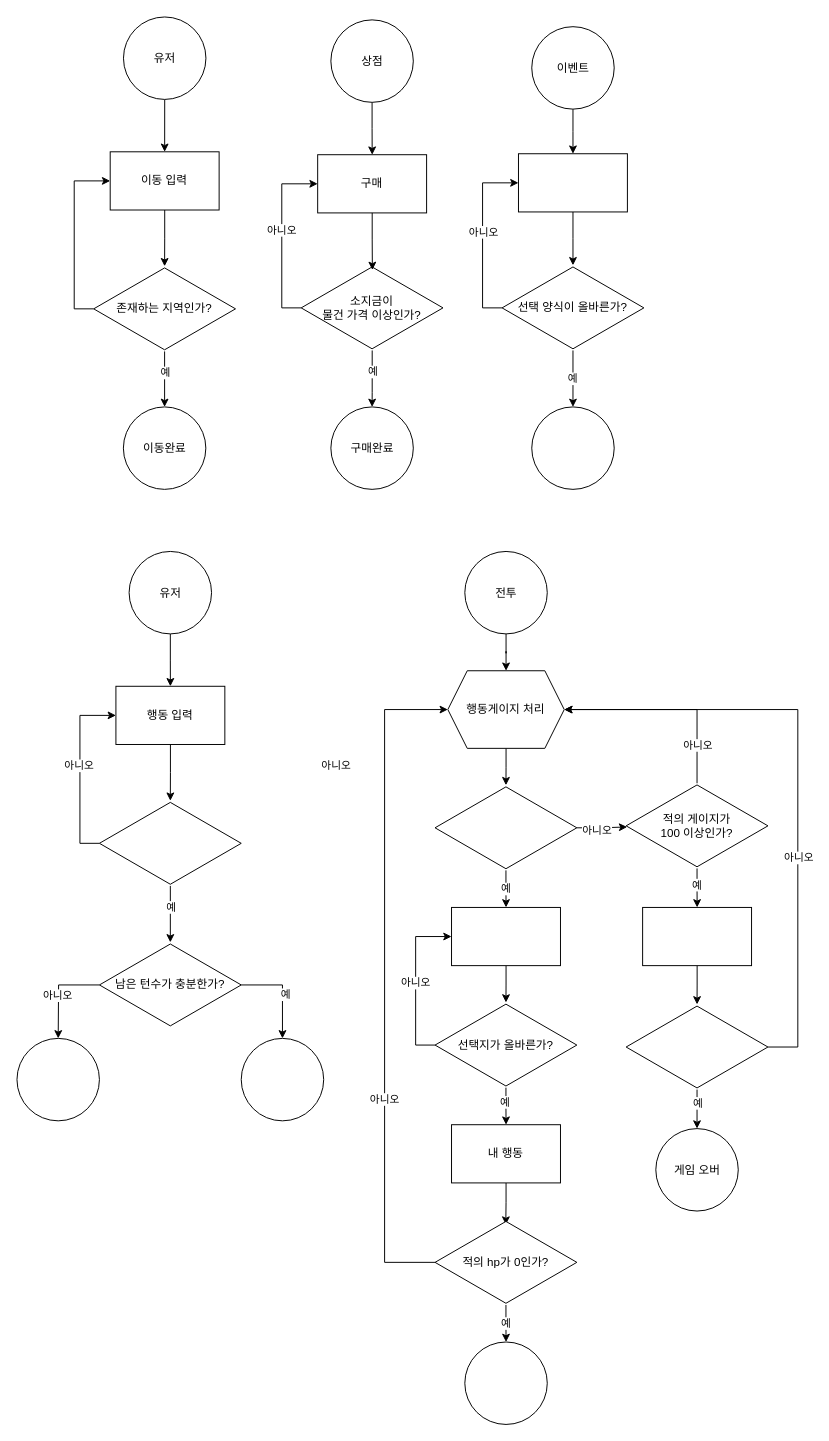
Some shapes in this 829 by 1441 pixel diagram are drawn without their labels. Here are the shapes that lost their labels. From the top down, the centre of each, then its label:
point (572, 182): 선택지
point (572, 447): 이벤트 수행
point (169, 843): 존재하는 행동인가?
point (505, 827): 내 게이지가 100 이상인가?
point (505, 936): 행동 선택
point (697, 936): 적 행동
point (696, 1046): 내 hp가 0인가?
point (57, 1079): 게임오버
point (282, 1079): 정상처리 후 다음 턴으로
point (505, 1382): 전투 종료
